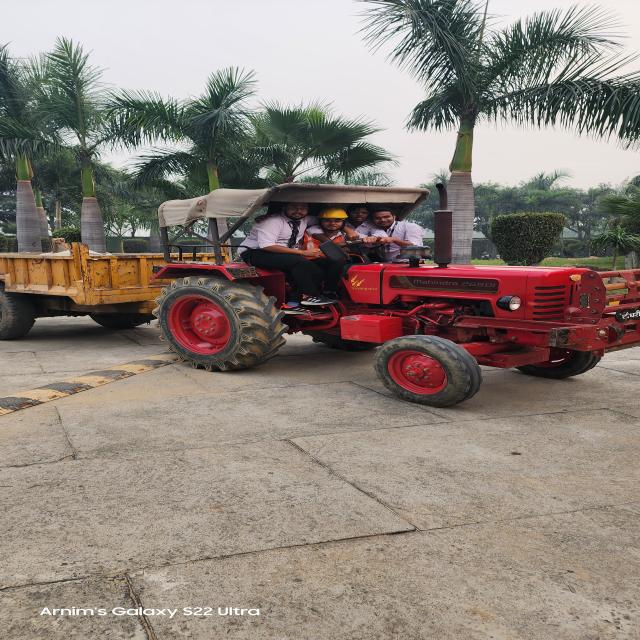safe: (308, 206, 349, 296)
unsafe: (245, 201, 313, 307), (370, 206, 425, 262), (346, 204, 378, 249)
